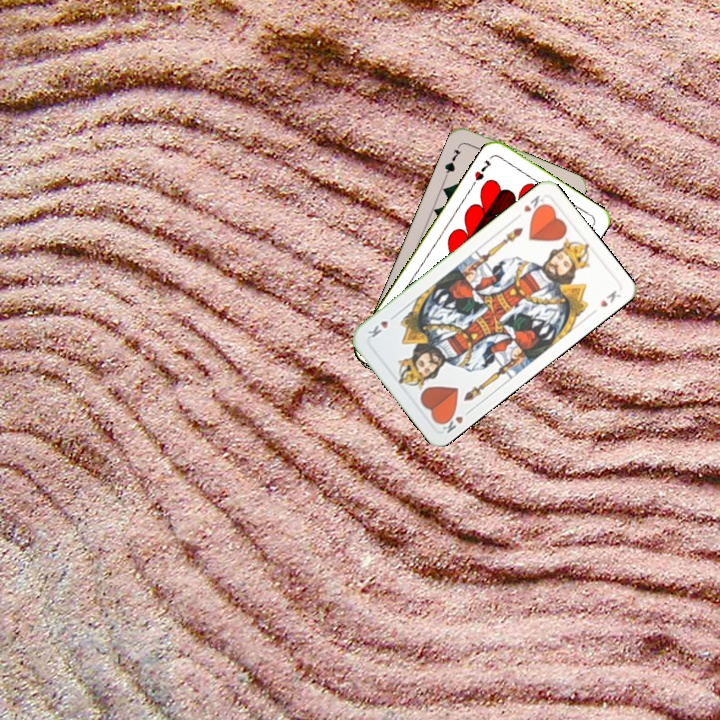G7: (440, 140, 463, 179)
H7: (470, 156, 494, 183)
HK: (436, 407, 466, 436), (519, 191, 549, 218)
